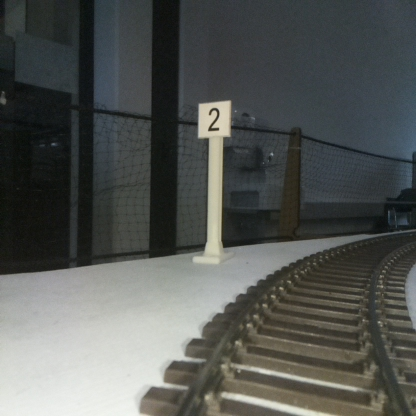white-info-2: (198, 100, 230, 261)
